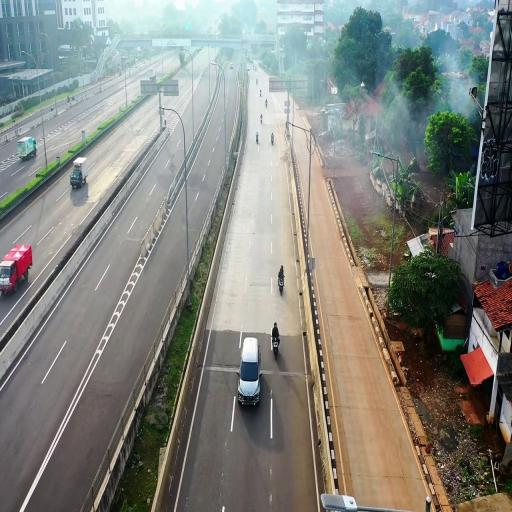vehicle: (237, 335, 262, 406), (237, 336, 262, 406), (70, 164, 85, 188)
